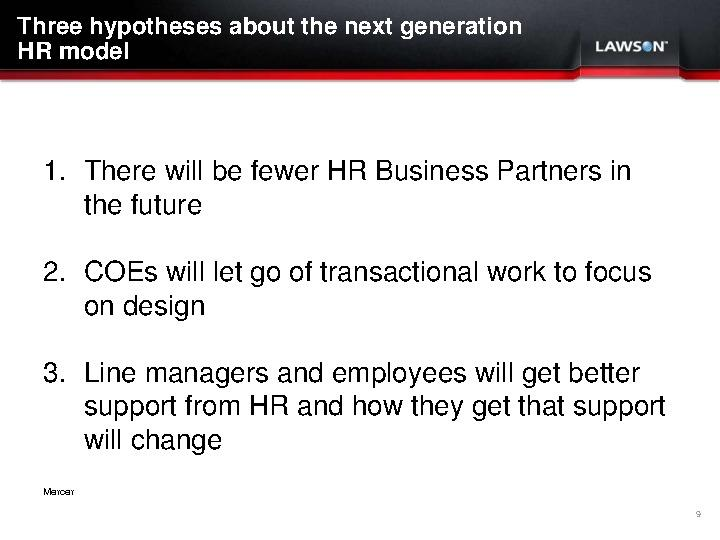paragraph: (35, 128, 687, 470)
subtitle: (31, 483, 93, 516)
title: (8, 6, 535, 79)
